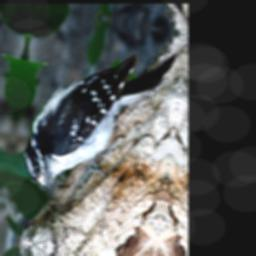Woodpecker: (15, 26, 180, 221)
